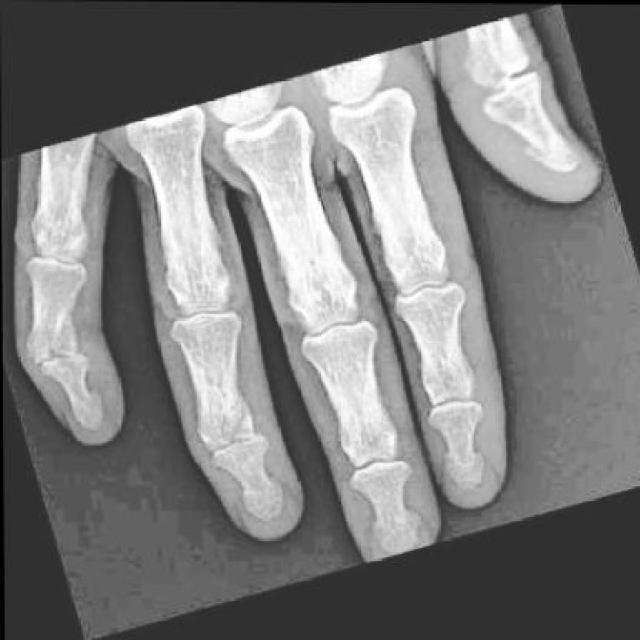Fracture: (17, 308, 82, 370), (201, 397, 259, 459)
